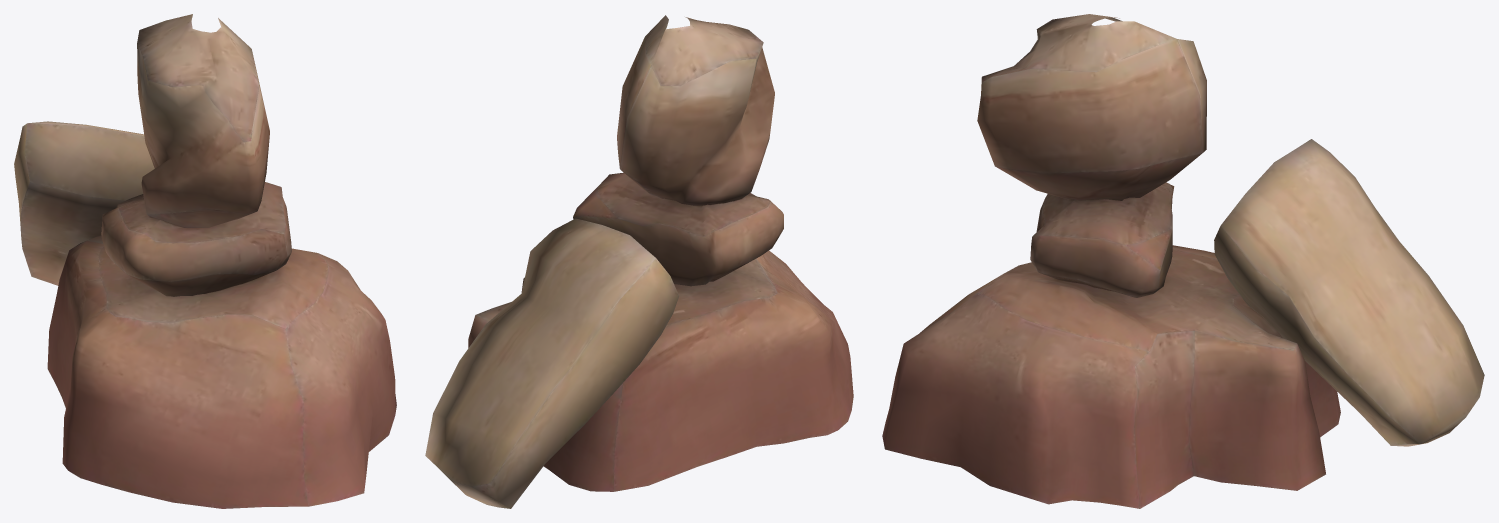
3 renders of one model, left to right at view 1: azimuth 30°, elevation 25°; view 2: azimuth 150°, elevation 25°; view 3: azimuth 270°, elevation 25°, orthographic. The views are drawn at different scales.
Parts seen in each view (by area): view 1: body0_model0_lod0_mesh0; view 2: body0_model0_lod0_mesh0; view 3: body0_model0_lod0_mesh0.
Part boxes in pixels (x1,y1,x2,y2): body0_model0_lod0_mesh0: (14,14,396,508); body0_model0_lod0_mesh0: (425,15,853,508); body0_model0_lod0_mesh0: (882,14,1484,508).
Bounding box in the file's own units: 49.8 × 59.64 × 79.89.
Materials: 1 (1 with a texture image).
